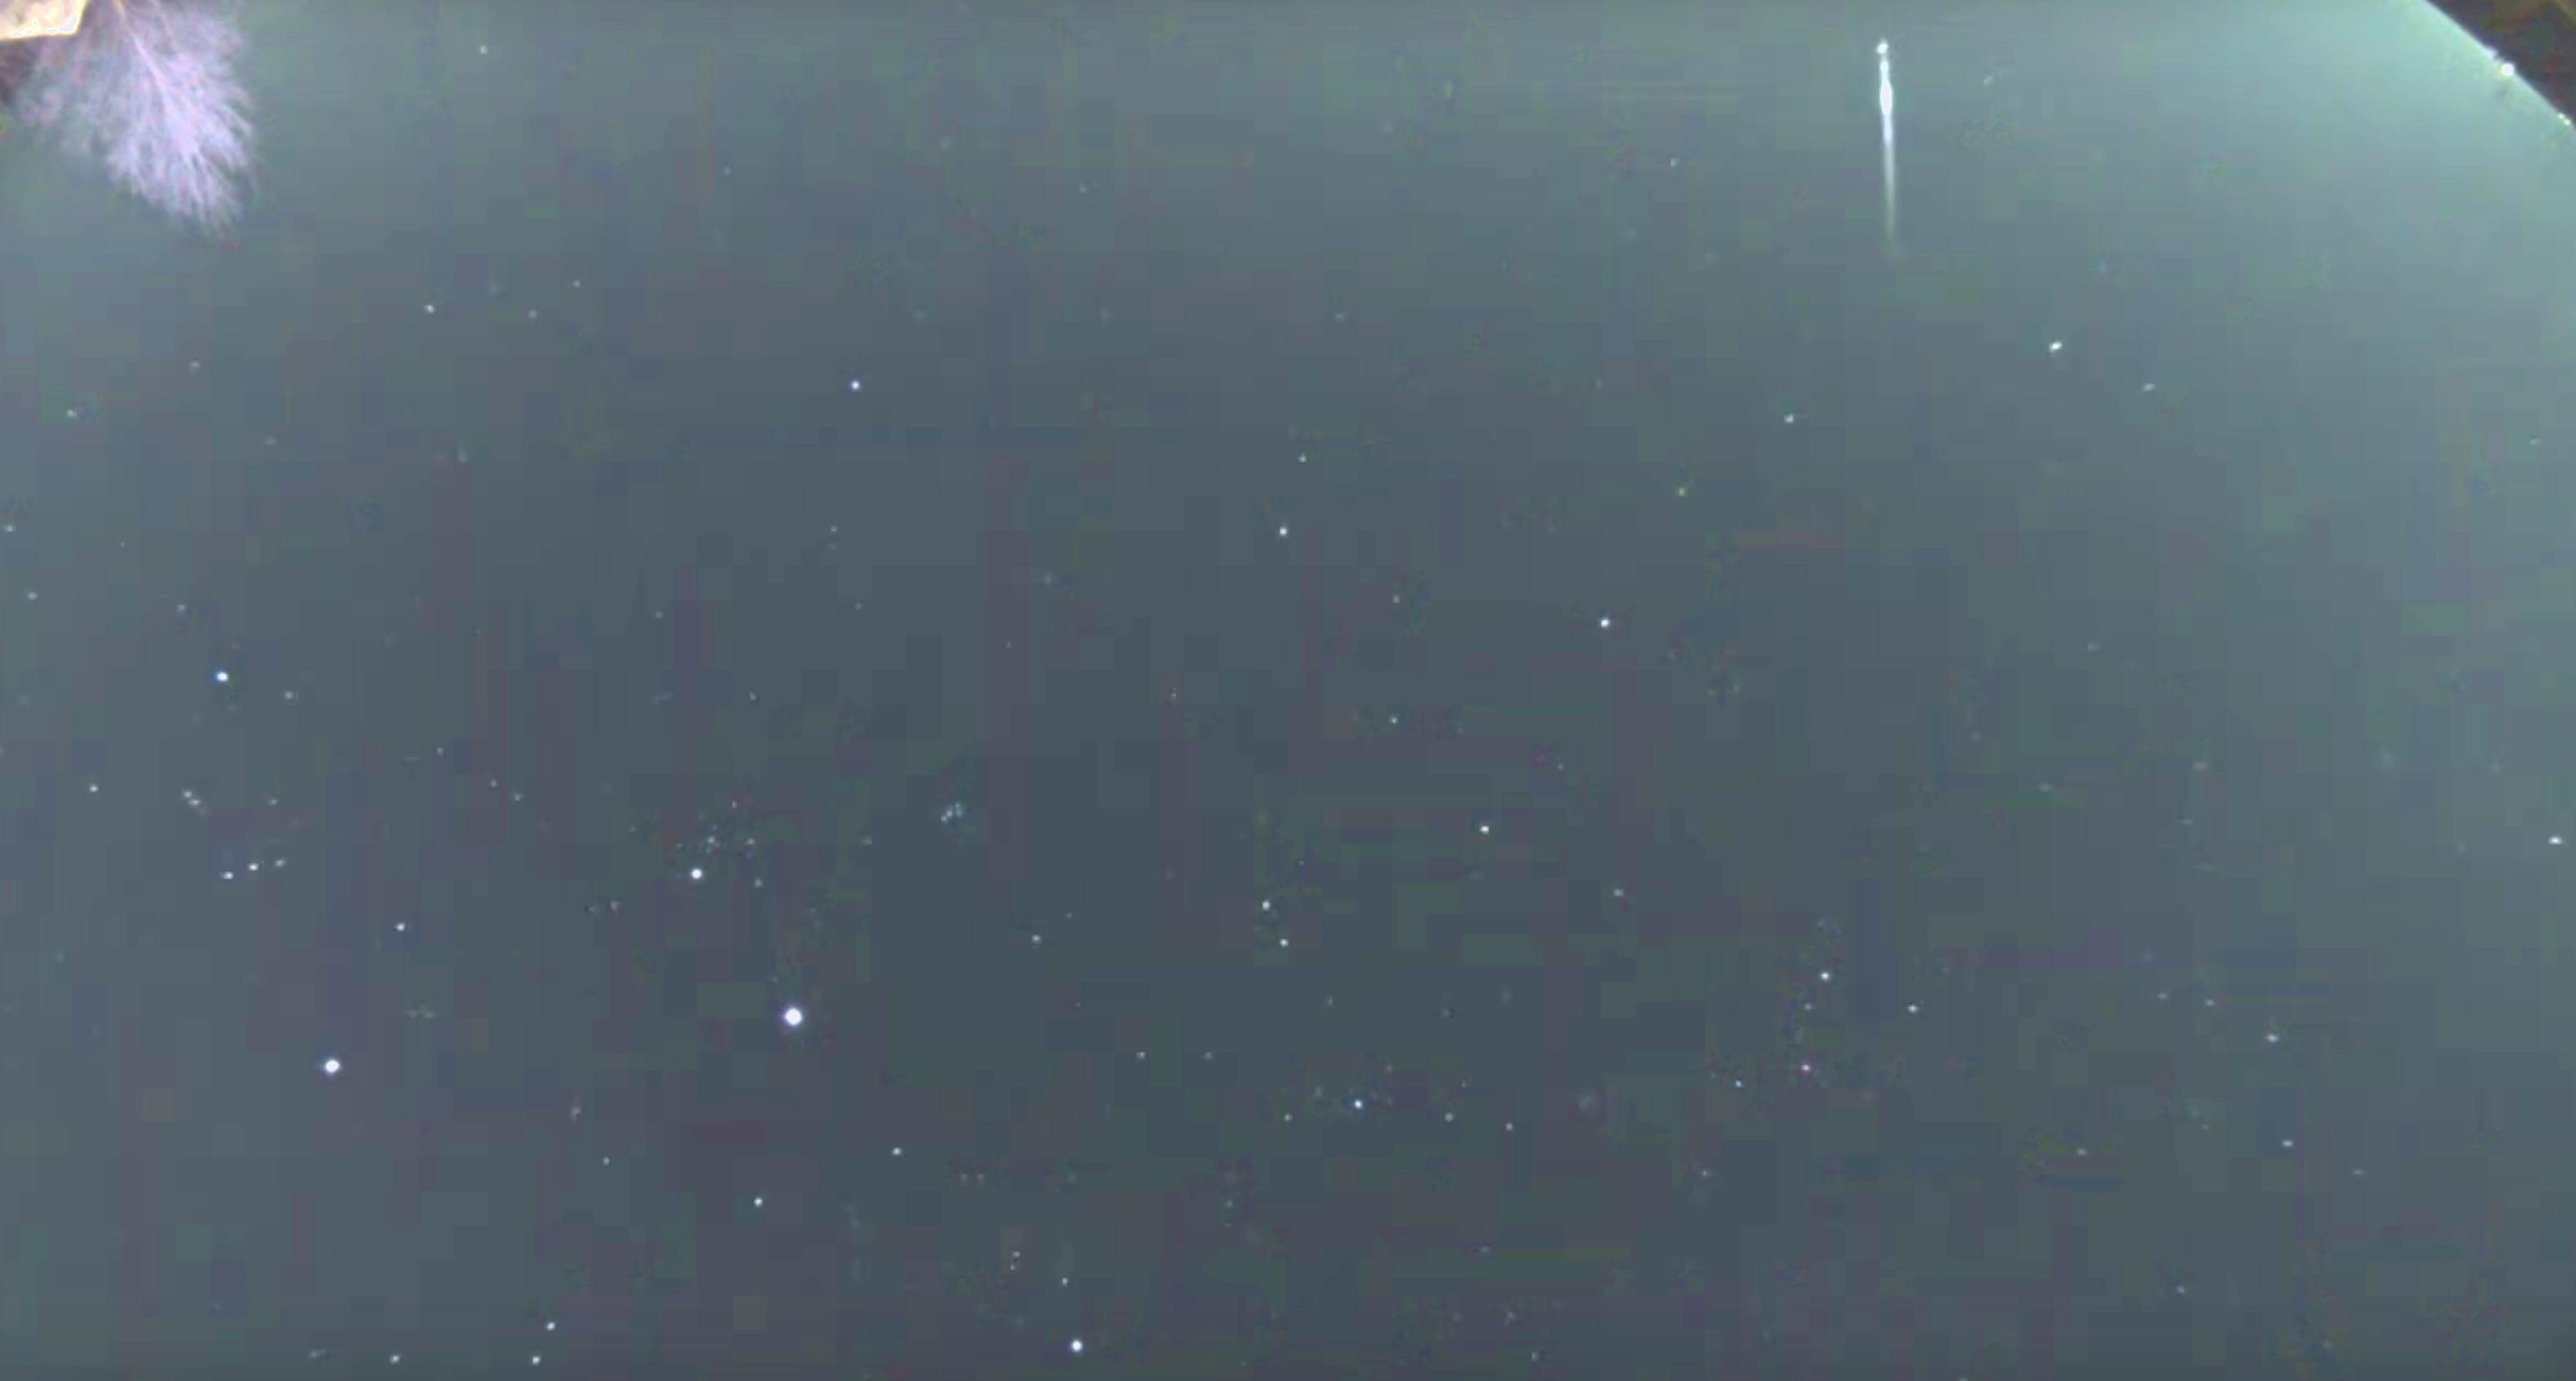meteorite: (1831, 36, 1939, 252)
